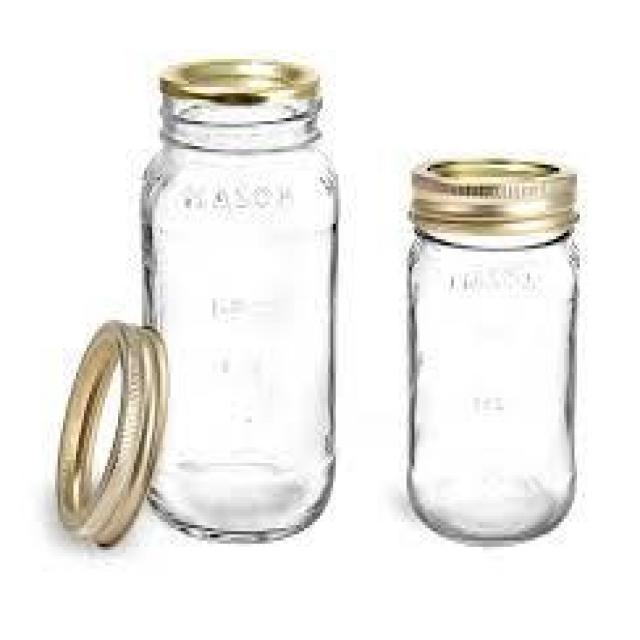non-organic waste: (406, 154, 585, 548)
